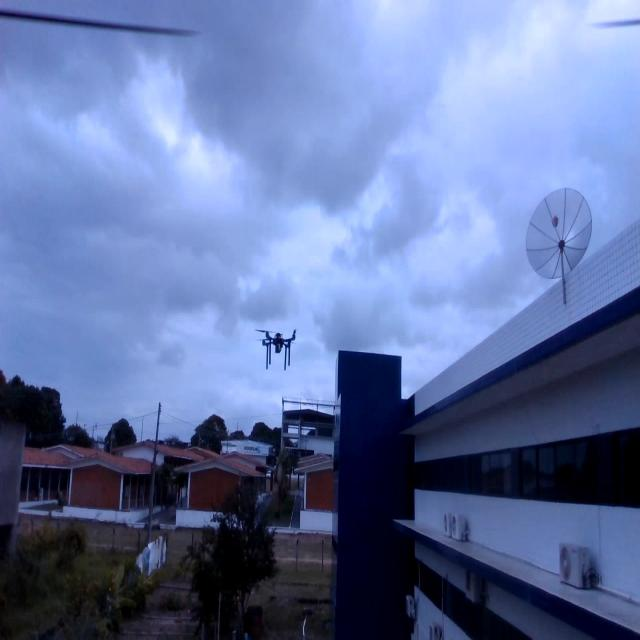-uav-: (250, 310, 305, 382)
